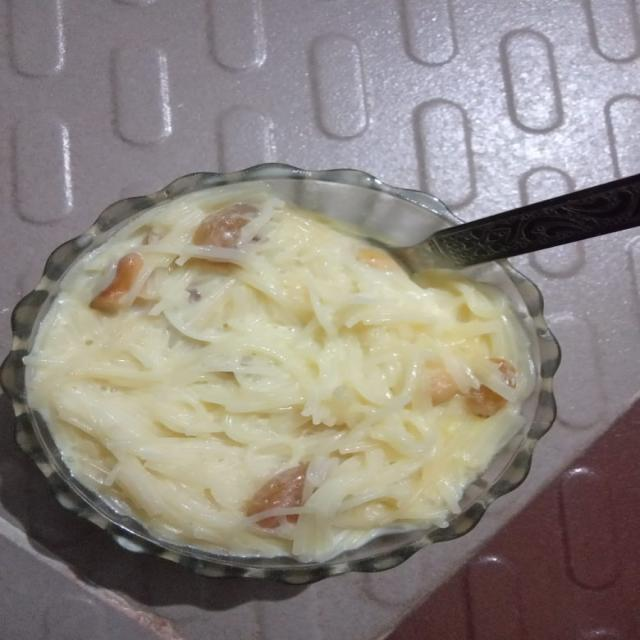shavige payasa: (3, 166, 555, 591)
